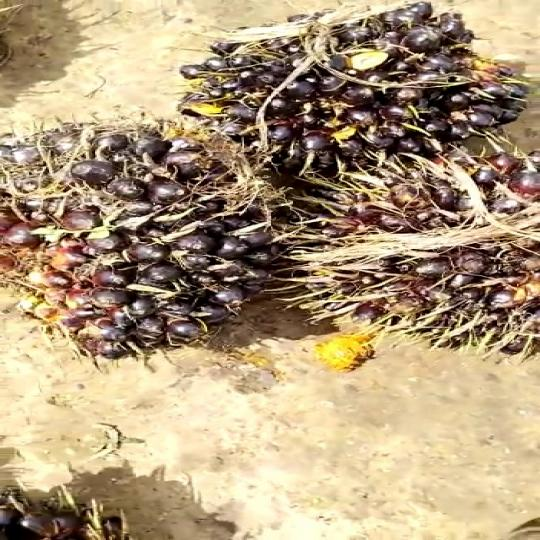mentah: (0, 97, 320, 367), (138, 0, 538, 173), (291, 130, 540, 376)
